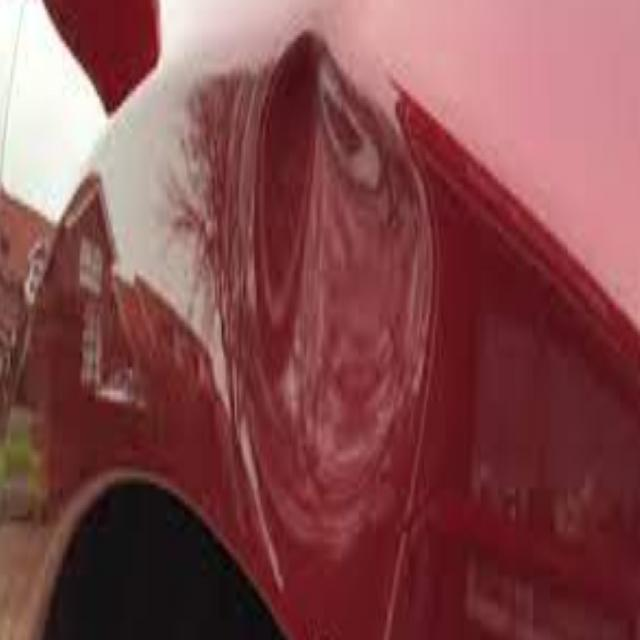dents: (217, 25, 450, 541)
